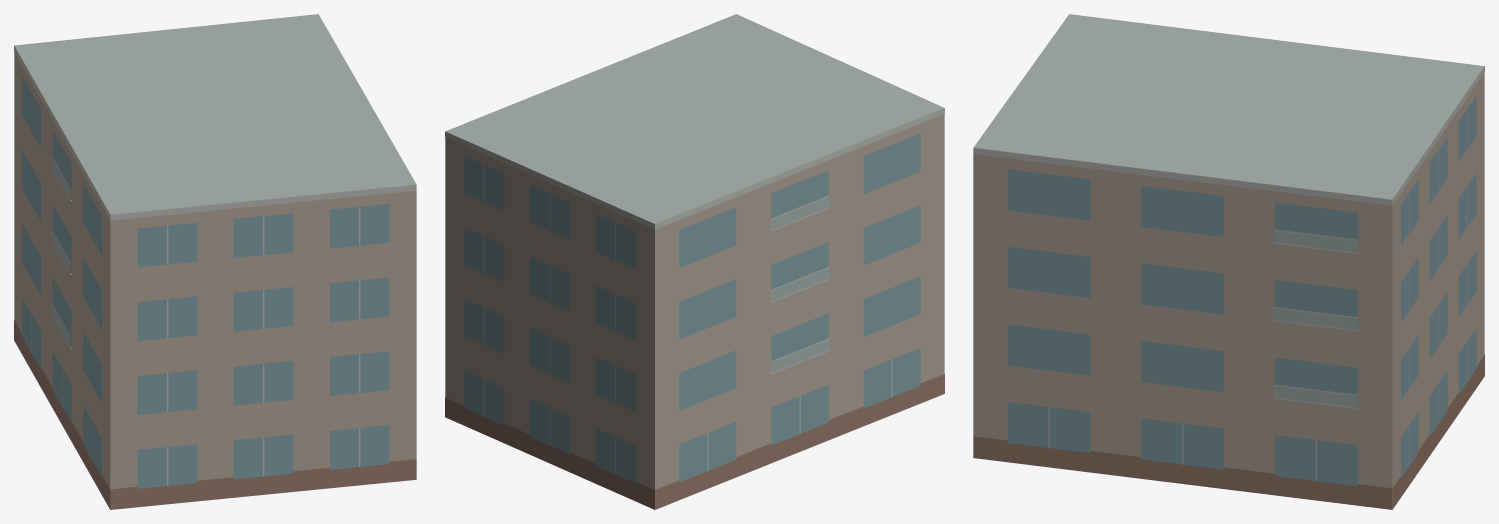
File: survey-upis-32933869.glb
3 views of the same model, side by side, from view 1: azimuth 30°, elevation 25°; view 2: azimuth 150°, elevation 25°; view 3: azimuth 270°, elevation 25° (orthographic). The views are drawn at different scales.
Parts seen in each view (by area): view 1: survey-upis-32933869.tmp; view 2: survey-upis-32933869.tmp; view 3: survey-upis-32933869.tmp.
Boxes of the visible parts, <box> form: survey-upis-32933869.tmp: <box>14,14,416,509</box>; survey-upis-32933869.tmp: <box>445,14,944,509</box>; survey-upis-32933869.tmp: <box>973,14,1484,509</box>.
Size of the model in its own units: 15.67 by 12.2 by 18.24.
